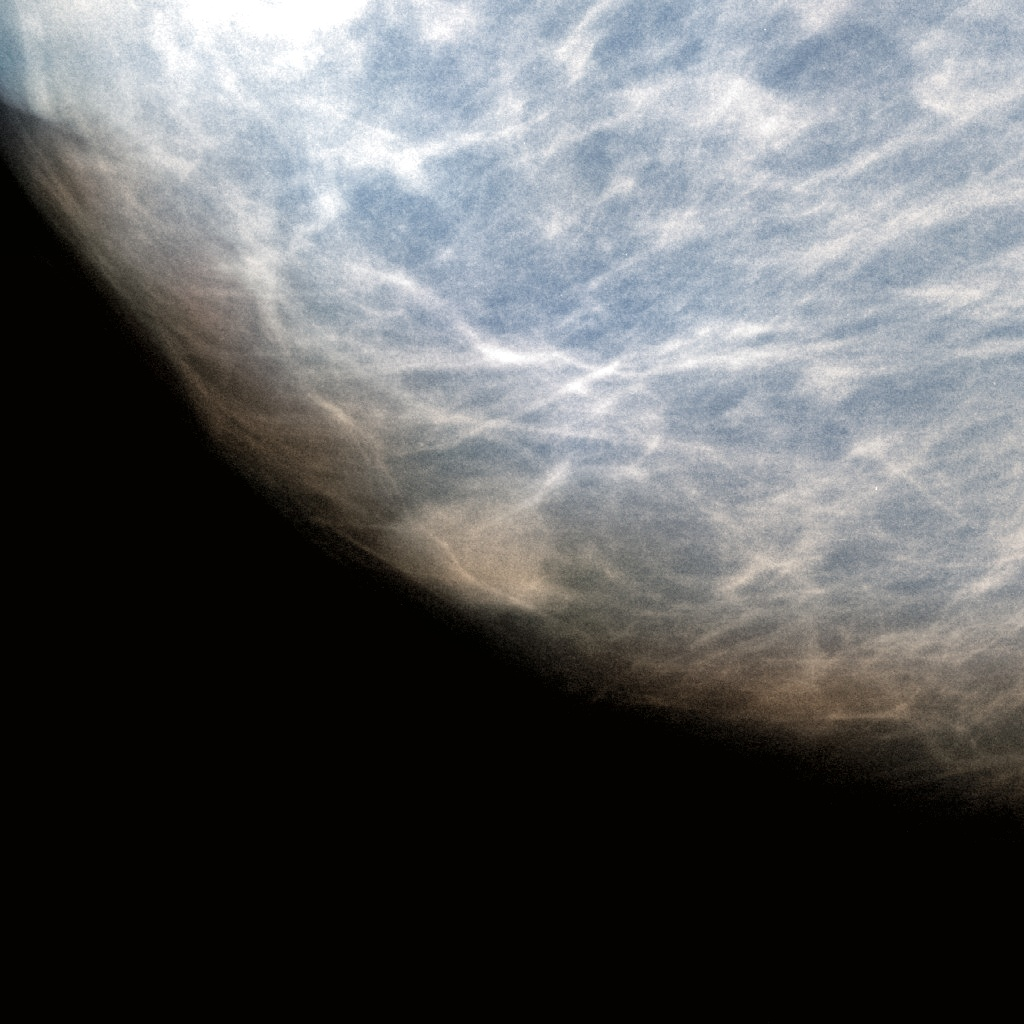tumor: (382, 390, 642, 634)
